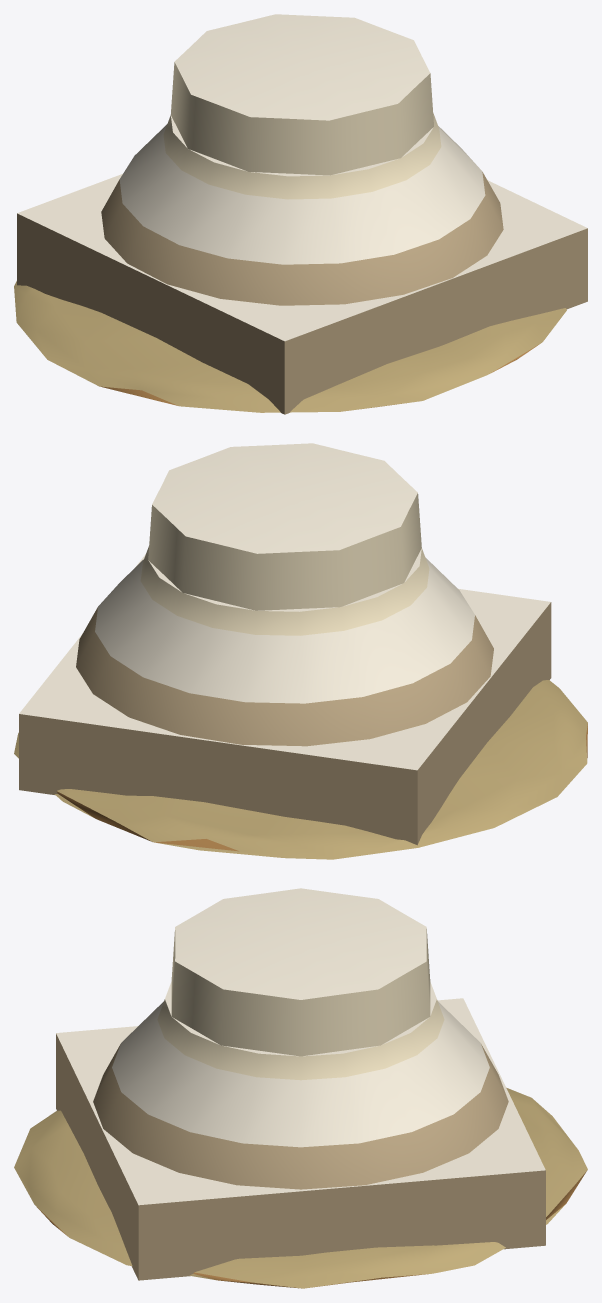
Rendered from ColumnCapital.fbx.
3 views of the same model, one above another, from view 1: azimuth 30°, elevation 25°; view 2: azimuth 150°, elevation 25°; view 3: azimuth 270°, elevation 25° (orthographic). The views are drawn at different scales.
Visible parts, largest first — view 1: ColumnCapital; view 2: ColumnCapital; view 3: ColumnCapital.
Boxes of the visible parts, bbox=[...] form: ColumnCapital: bbox=[14, 14, 587, 414]; ColumnCapital: bbox=[14, 443, 587, 859]; ColumnCapital: bbox=[14, 888, 587, 1288].
Size of the model in its own units: 1.52 by 0.7 by 1.52.
Materials: 1 (1 with a texture image).
